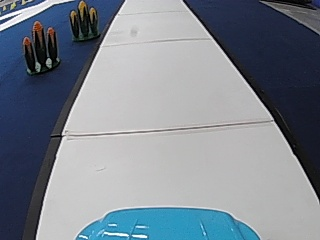corn: (22, 19, 61, 74), (67, 0, 100, 41)
